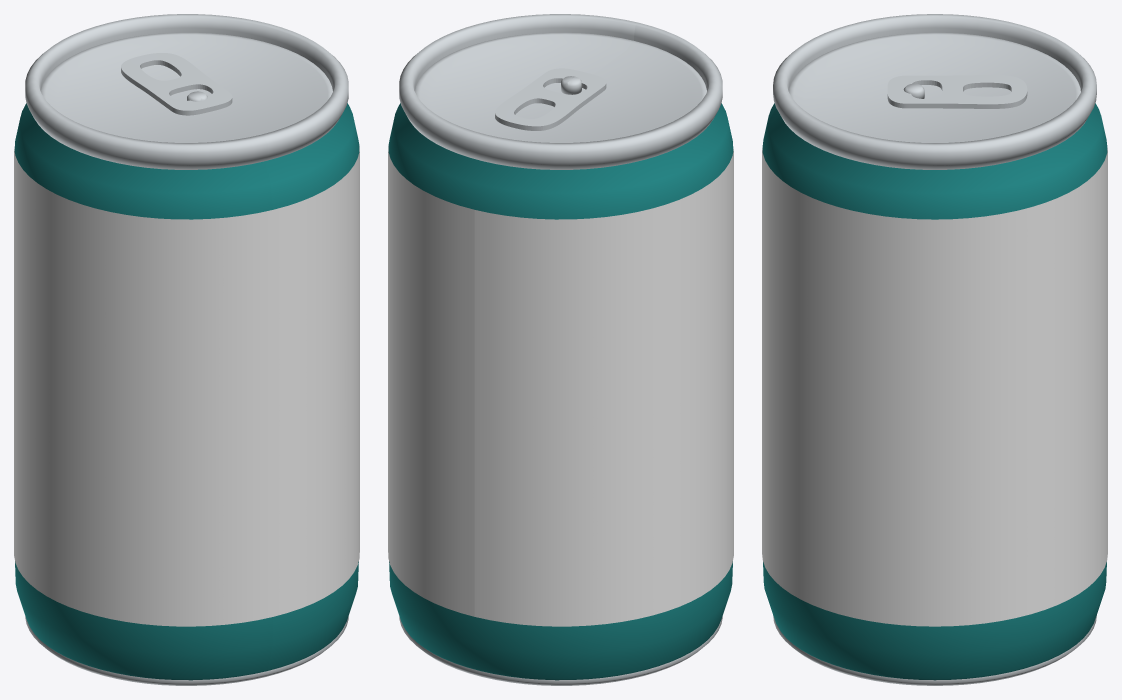
Rendered from preview.glb.
3 views of the same model, side by side, from view 1: azimuth 30°, elevation 25°; view 2: azimuth 150°, elevation 25°; view 3: azimuth 270°, elevation 25° (orthographic).
Parts seen in each view (by area): view 1: Can_Print, Can_Body; view 2: Can_Print, Can_Body; view 3: Can_Print, Can_Body.
Part boxes in pixels (box(x1,y1,x2,y2)): Can_Print: box(14, 146, 359, 626); Can_Body: box(14, 14, 359, 685); Can_Print: box(388, 146, 733, 626); Can_Body: box(388, 14, 733, 685); Can_Print: box(762, 148, 1107, 626); Can_Body: box(762, 14, 1107, 685).
Size of the model in its own units: 0.0662 by 0.114 by 0.0662.
